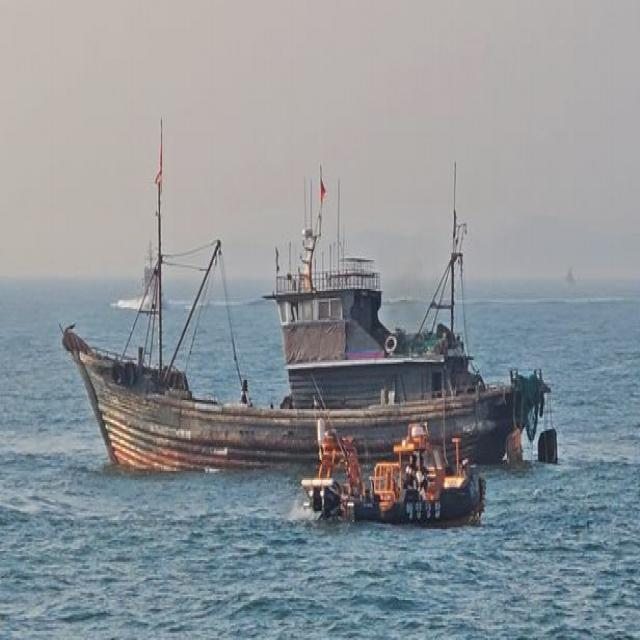Ship: (55, 190, 559, 474), (287, 427, 500, 538)
